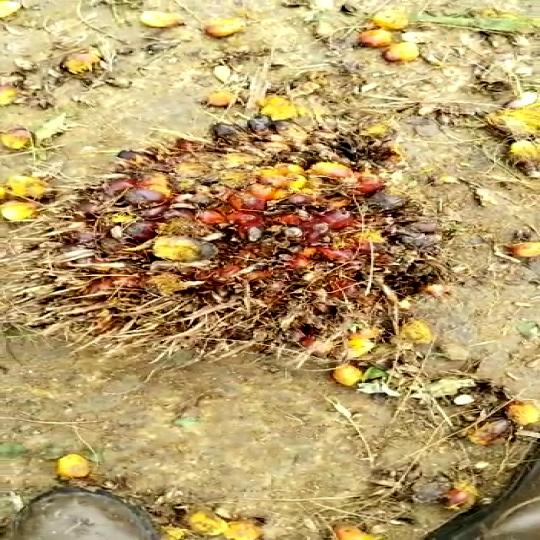terlalu masak: (10, 103, 453, 374)
